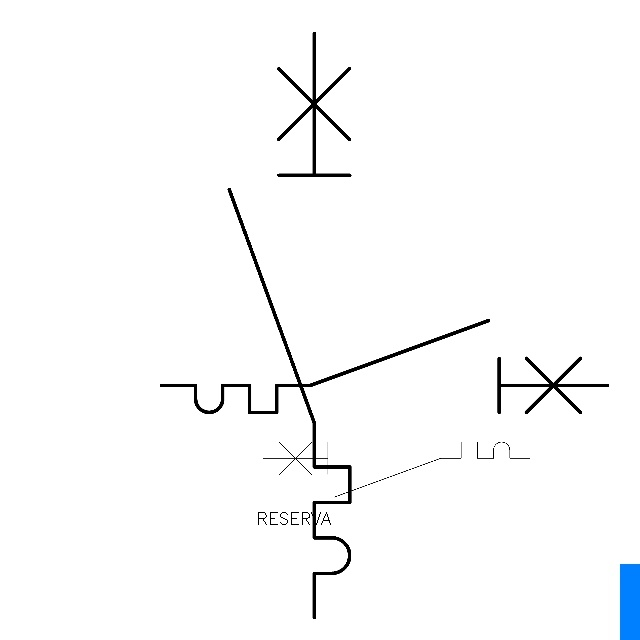interruptor_termomagnetico: (214, 18, 365, 633), (150, 309, 619, 424), (256, 435, 537, 504)
